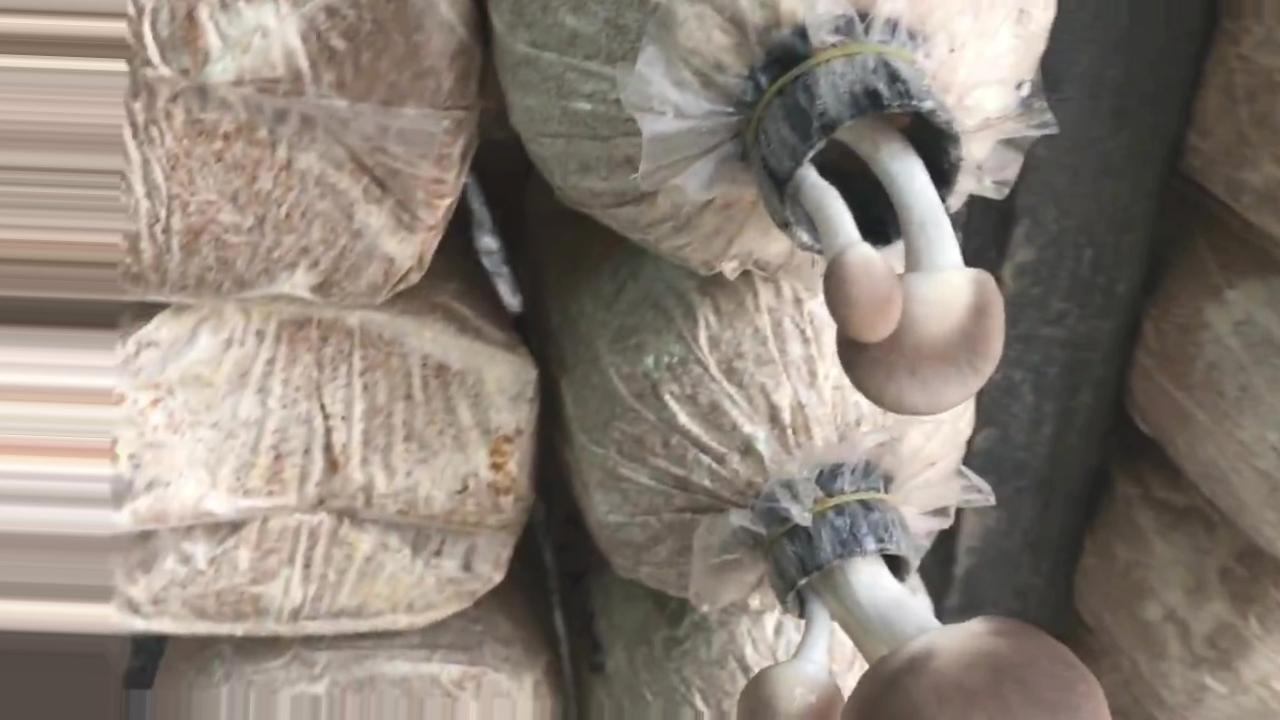nam: (752, 54, 1003, 415), (739, 499, 1106, 720)
